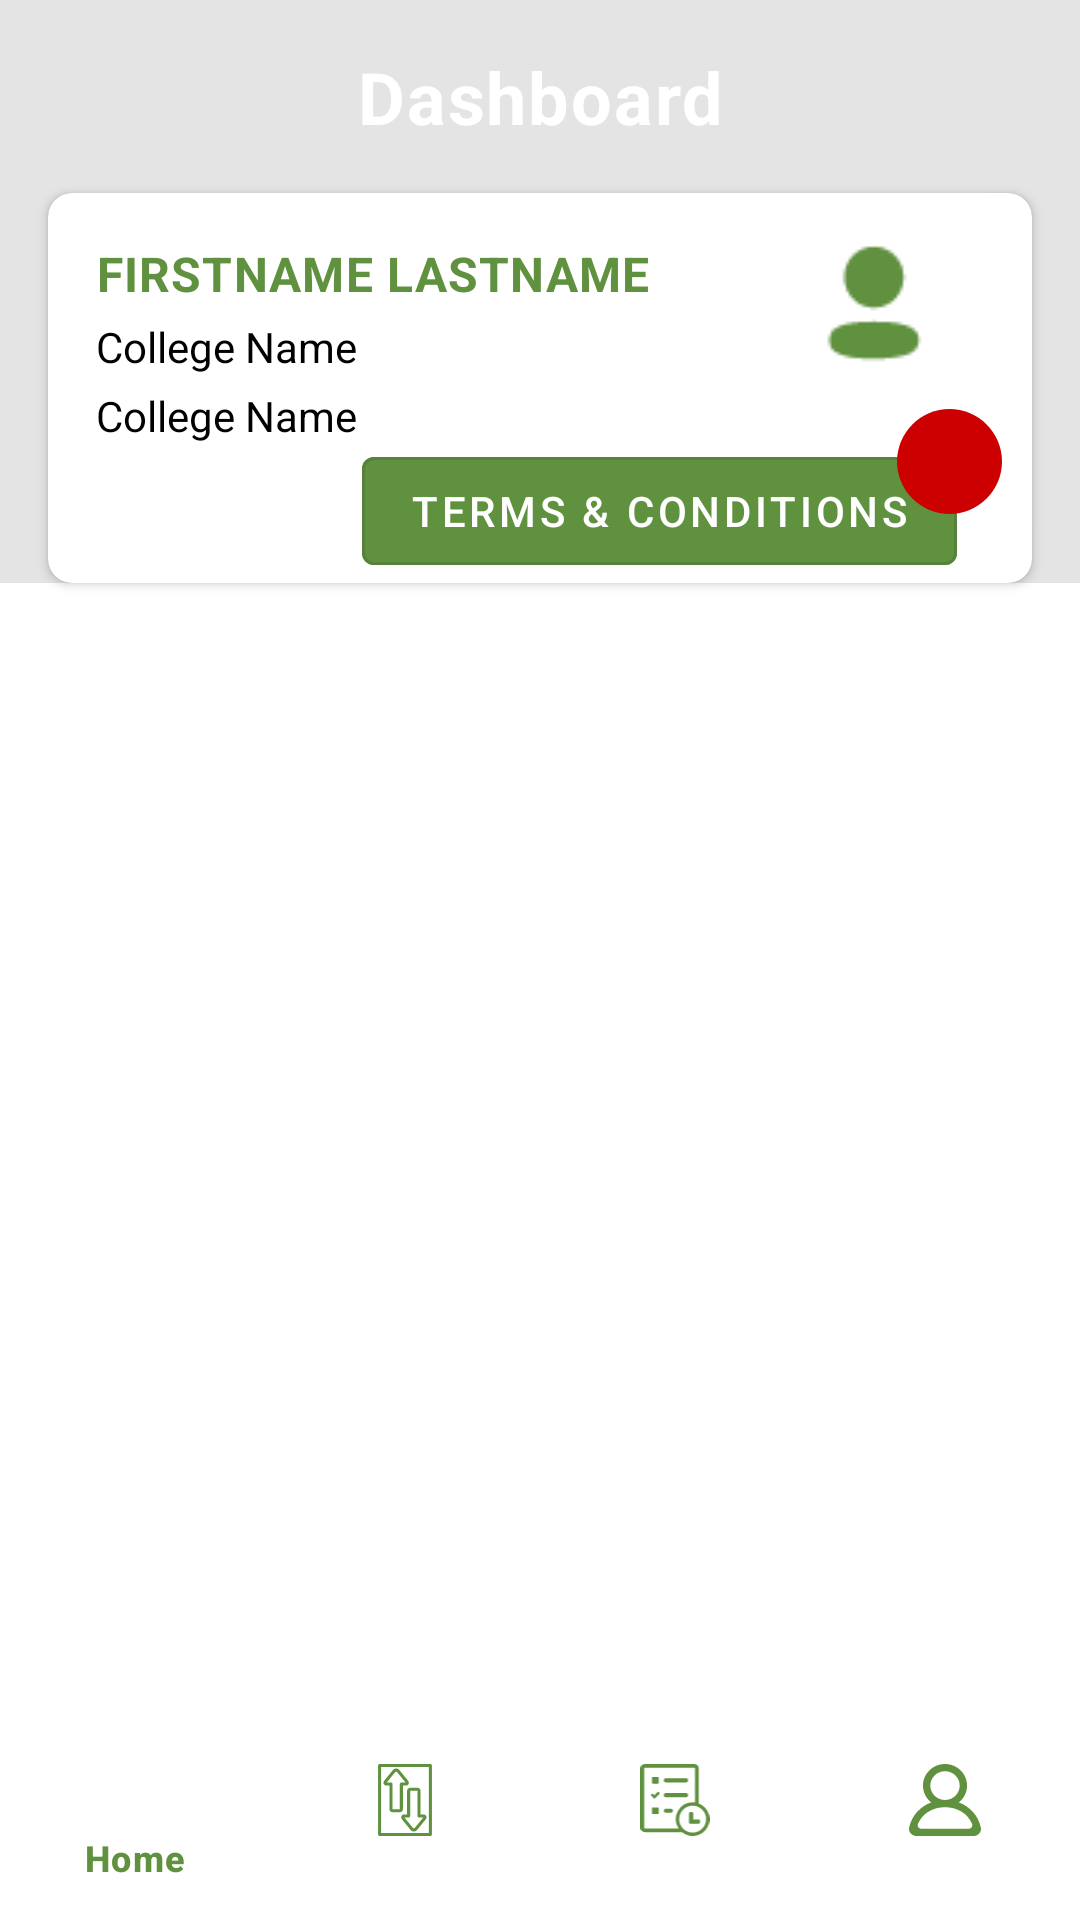

Icons on this 1080x1920 Android screen, each with its box as (x1, y1, x2, y2):
usericon: (827, 246, 921, 361)
